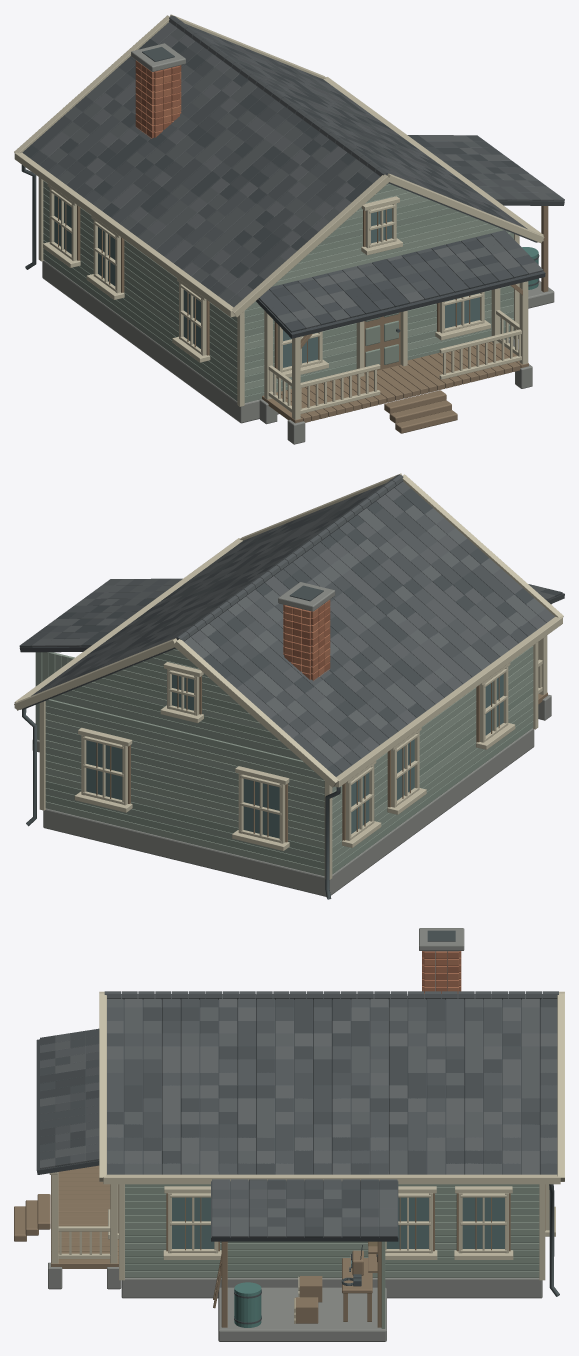
The model's file is SM_ConspiracyHouse_Blockout.fbx.
The picture shows the model from 3 angles, top to bottom: view 1: azimuth 30°, elevation 25°; view 2: azimuth 150°, elevation 25°; view 3: azimuth 270°, elevation 25°; orthographic projection. The views are drawn at different scales.
Visible parts, largest first — view 1: EXPORT_Main_Foundation, EXPORT_Eave_Fascia, EXPORT_Bargeboard, EXPORT_Porch_Roof, EXPORT_Bargeboard.002, EXPORT_Clapboard_Side, EXPORT_Eave_Fascia.001, EXPORT_Attic_Clapboard.001, EXPORT_Bargeboard.001, EXPORT_Clapboard_Facade.002, EXPORT_Clapboard_Side.002, EXPORT_Attic_Clapboard (+38 smaller); view 2: EXPORT_Main_Foundation, EXPORT_Eave_Fascia, EXPORT_Bargeboard.001, EXPORT_Clapboard_Facade.031, EXPORT_Clapboard_Facade.003, EXPORT_Clapboard_Facade.001, EXPORT_Clapboard_Facade.029, EXPORT_Clapboard_Facade.027, EXPORT_Attic_Clapboard.013, EXPORT_RearLeft_Glass, EXPORT_RearRight_Glass, EXPORT_Bargeboard.003 (+40 smaller); view 3: EXPORT_Workshop_Slab, EXPORT_Main_Foundation, EXPORT_Roof_Deck.001, EXPORT_Eave_Fascia.001, EXPORT_Clapboard_Side.003, EXPORT_Clapboard_Side.001, EXPORT_Clapboard_Side.005, EXPORT_EastWindow_Glass.002, EXPORT_EastWindow_Glass, EXPORT_Workshop_Roof, EXPORT_Clapboard_Side.009, EXPORT_Clapboard_Side.007 (+25 smaller).
Part boxes in pixels (x1=…): EXPORT_Main_Foundation: x1=42, y1=260, x2=514, y2=423; EXPORT_Eave_Fascia: x1=14, y1=152, x2=234, y2=317; EXPORT_Bargeboard: x1=231, y1=174, x2=390, y2=317; EXPORT_Porch_Roof: x1=256, y1=271, x2=545, y2=338; EXPORT_Bargeboard.002: x1=387, y1=173, x2=544, y2=242; EXPORT_Clapboard_Side: x1=43, y1=253, x2=237, y2=400; EXPORT_Eave_Fascia.001: x1=323, y1=77, x2=543, y2=242; EXPORT_Attic_Clapboard.001: x1=278, y1=223, x2=497, y2=280; EXPORT_Bargeboard.001: x1=14, y1=15, x2=169, y2=153; EXPORT_Clapboard_Facade.002: x1=244, y1=325, x2=513, y2=396; EXPORT_Clapboard_Side.002: x1=43, y1=248, x2=237, y2=394; EXPORT_Attic_Clapboard: x1=272, y1=227, x2=506, y2=286; EXPORT_Main_Foundation: x1=43, y1=728, x2=534, y2=896; EXPORT_Eave_Fascia: x1=334, y1=616, x2=562, y2=787; EXPORT_Bargeboard.001: x1=174, y1=639, x2=338, y2=787; EXPORT_Clapboard_Facade.031: x1=45, y1=699, x2=313, y2=770; EXPORT_Clapboard_Facade.003: x1=45, y1=795, x2=324, y2=869; EXPORT_Clapboard_Facade.001: x1=45, y1=801, x2=324, y2=876; EXPORT_Clapboard_Facade.029: x1=45, y1=706, x2=323, y2=780; EXPORT_Clapboard_Facade.027: x1=45, y1=712, x2=324, y2=787; EXPORT_Attic_Clapboard.013: x1=52, y1=694, x2=299, y2=758; EXPORT_RearLeft_Glass: x1=243, y1=779, x2=279, y2=838; EXPORT_RearRight_Glass: x1=86, y1=740, x2=122, y2=799; EXPORT_Bargeboard.003: x1=14, y1=638, x2=177, y2=710; EXPORT_Workshop_Slab: x1=218, y1=1287, x2=386, y2=1341; EXPORT_Main_Foundation: x1=121, y1=1278, x2=542, y2=1298; EXPORT_Roof_Deck.001: x1=123, y1=997, x2=540, y2=1174; EXPORT_Eave_Fascia.001: x1=103, y1=1174, x2=560, y2=1184; EXPORT_Clapboard_Side.003: x1=125, y1=1264, x2=539, y2=1270; EXPORT_Clapboard_Side.001: x1=125, y1=1271, x2=539, y2=1277; EXPORT_Clapboard_Side.005: x1=125, y1=1257, x2=539, y2=1263; EXPORT_EastWindow_Glass.002: x1=462, y1=1197, x2=504, y2=1248; EXPORT_EastWindow_Glass: x1=172, y1=1197, x2=214, y2=1248; EXPORT_Workshop_Roof: x1=211, y1=1181, x2=398, y2=1241; EXPORT_Clapboard_Side.009: x1=125, y1=1243, x2=539, y2=1249; EXPORT_Clapboard_Side.007: x1=125, y1=1250, x2=539, y2=1256.
Size of the model in its own units: 1118 by 1309 by 672.
